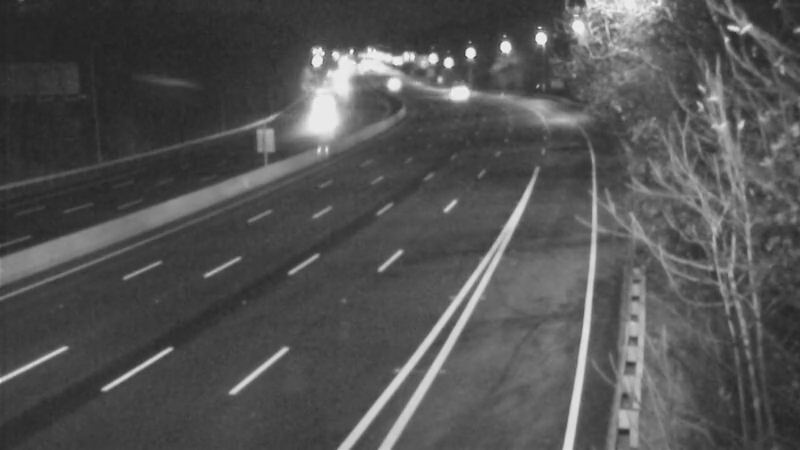vehicle: (369, 59, 419, 109), (431, 68, 481, 118), (291, 86, 341, 136)
